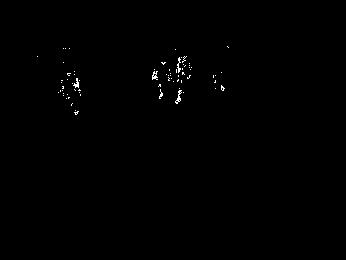person: (172, 55, 194, 103), (151, 57, 172, 100)
